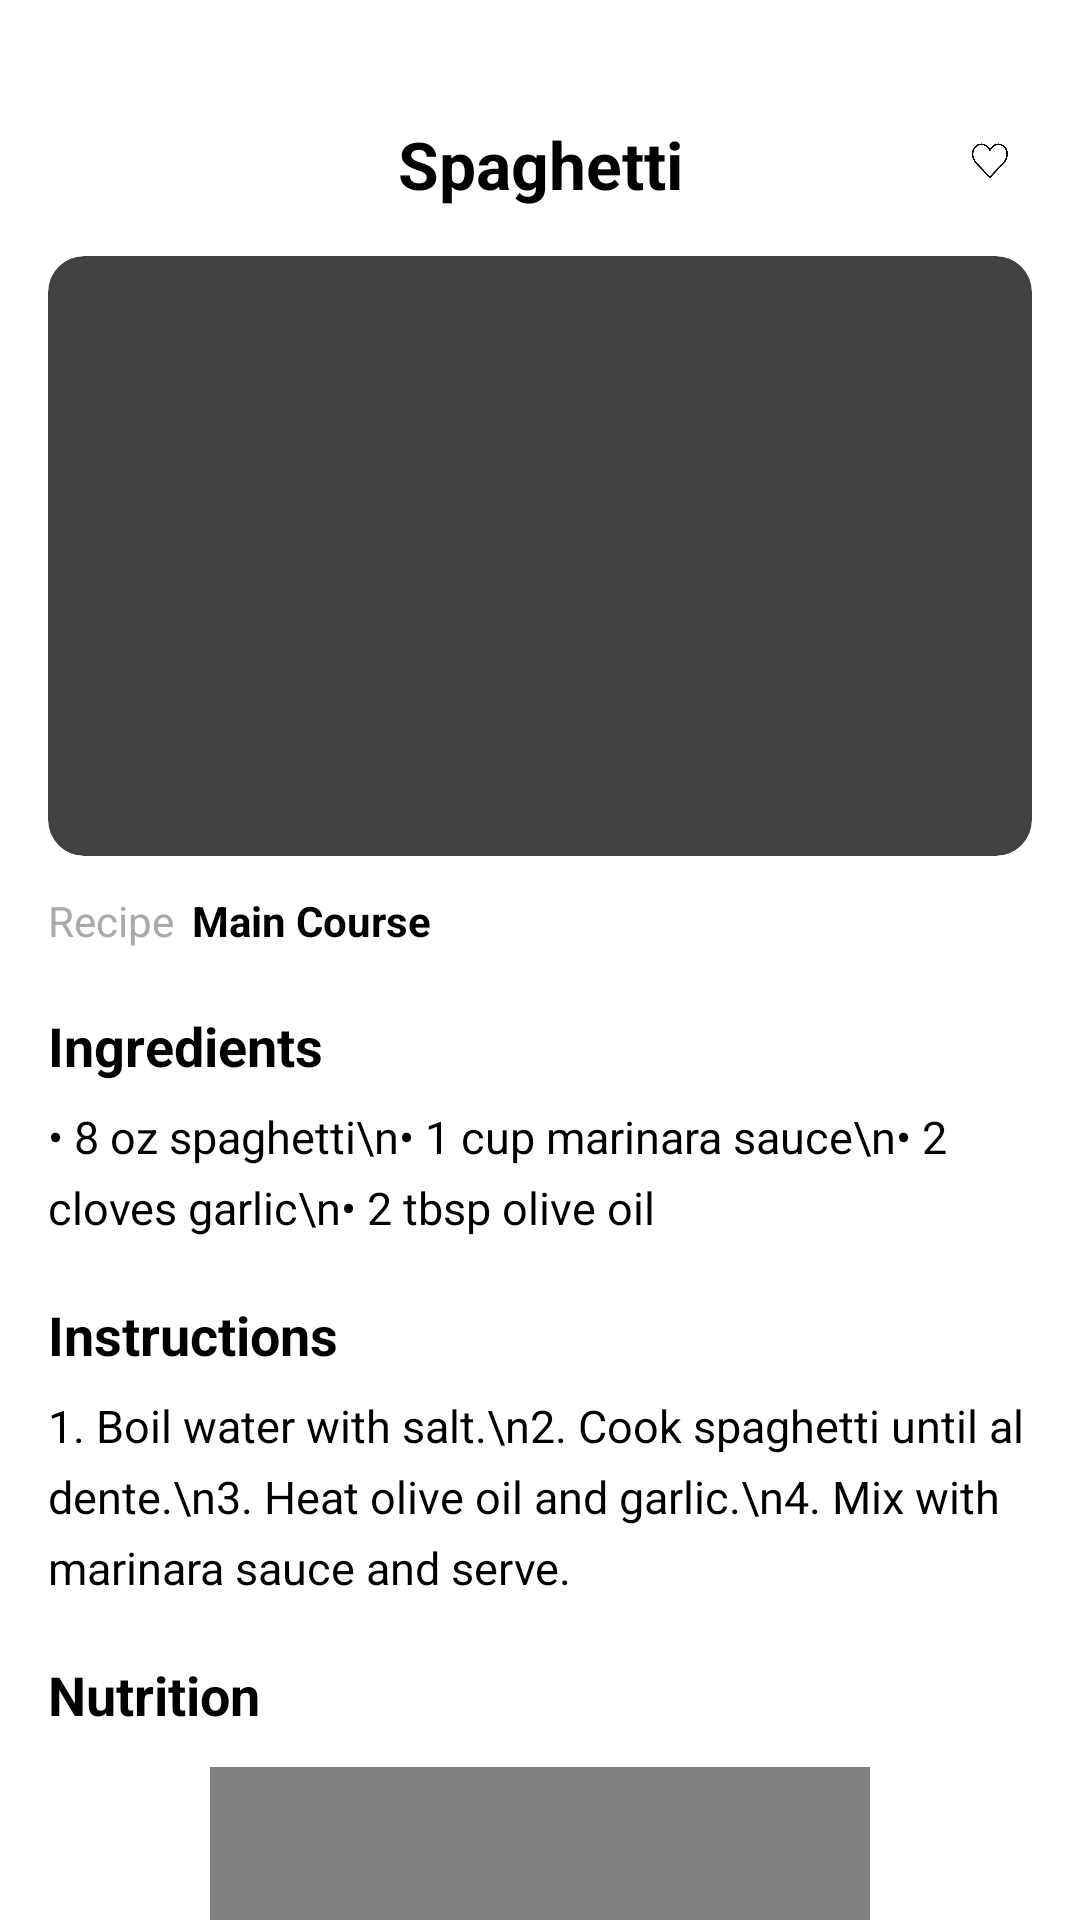

Point at icon controls on the screen. Image size 1080*1920, points as (x=x, y=y).
Favorite: (x=990, y=160)
